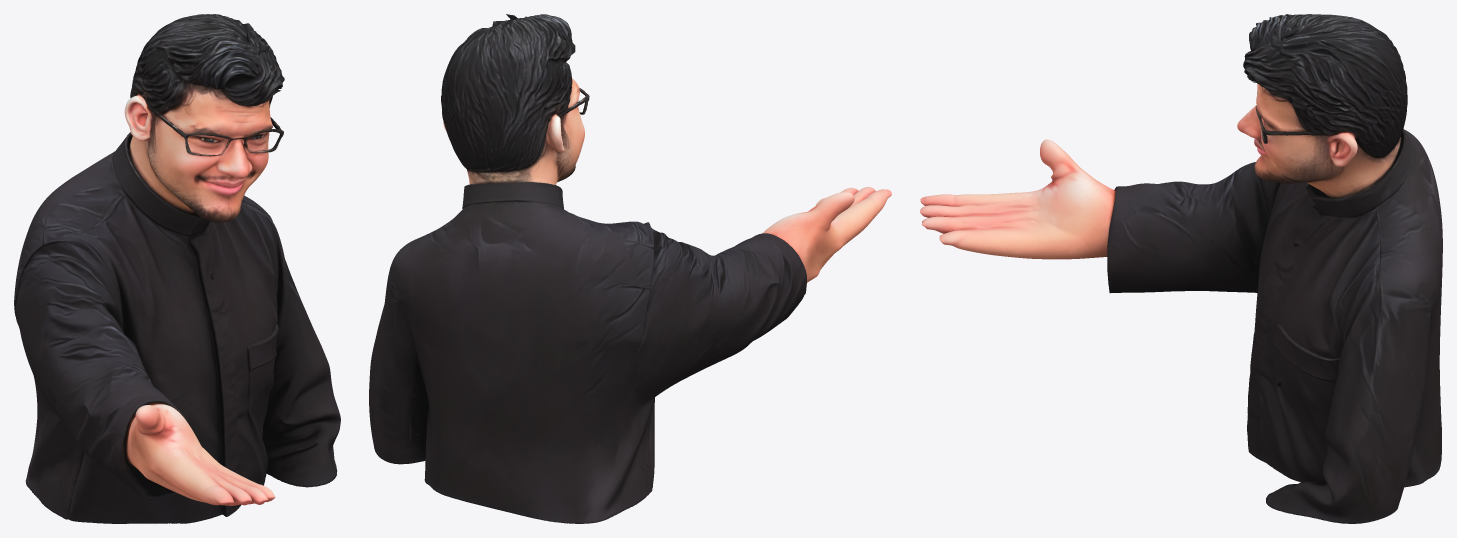
File: trabajo.glb
The picture shows the model from 3 angles, left to right: view 1: azimuth 30°, elevation 25°; view 2: azimuth 150°, elevation 25°; view 3: azimuth 270°, elevation 25°; orthographic projection. The views are drawn at different scales.
Parts seen in each view (by area): view 1: model; view 2: model; view 3: model.
Part boxes in pixels (left/top/right/bottom): model: left=14, top=14, right=340, bottom=523; model: left=369, top=14, right=891, bottom=523; model: left=920, top=14, right=1442, bottom=523.
Bounding box in the file's own units: 1.37 × 1.7 × 1.81.
Materials: 1 (1 with a texture image).
